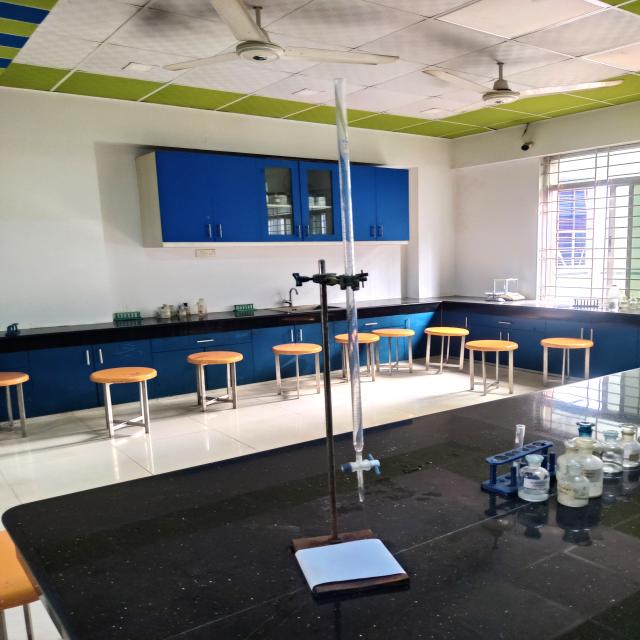Burette_Stands: (281, 253, 423, 617)
